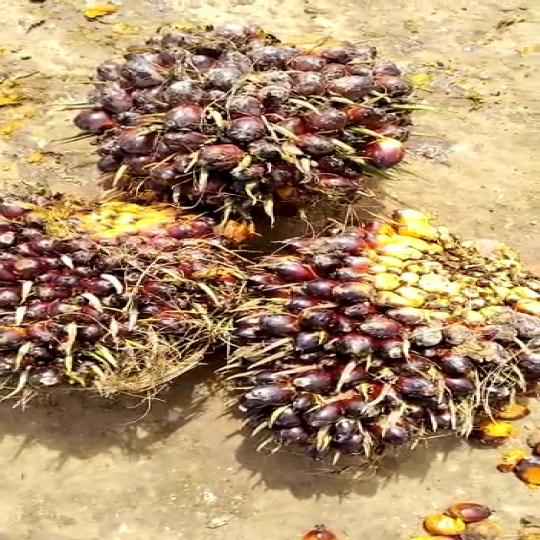kurang masak: (217, 214, 540, 492), (81, 21, 442, 239), (0, 173, 240, 419)
